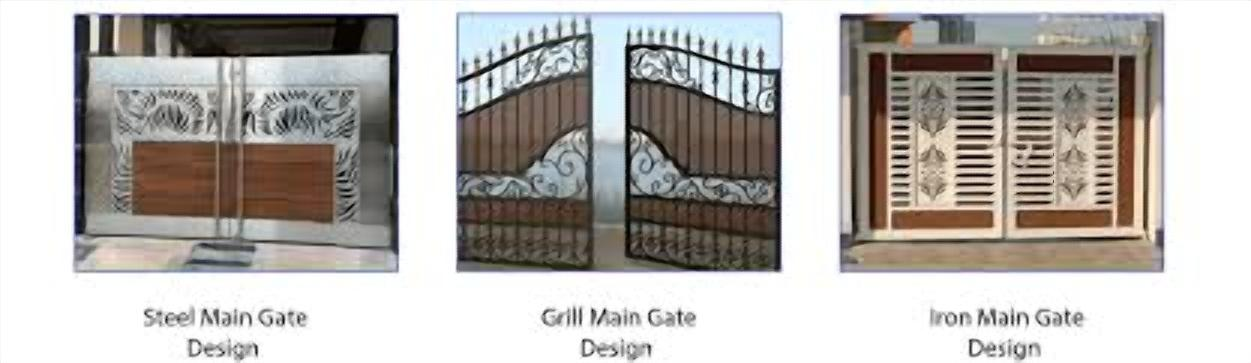Gate: (458, 11, 781, 274), (75, 52, 397, 250), (849, 40, 1152, 242)
